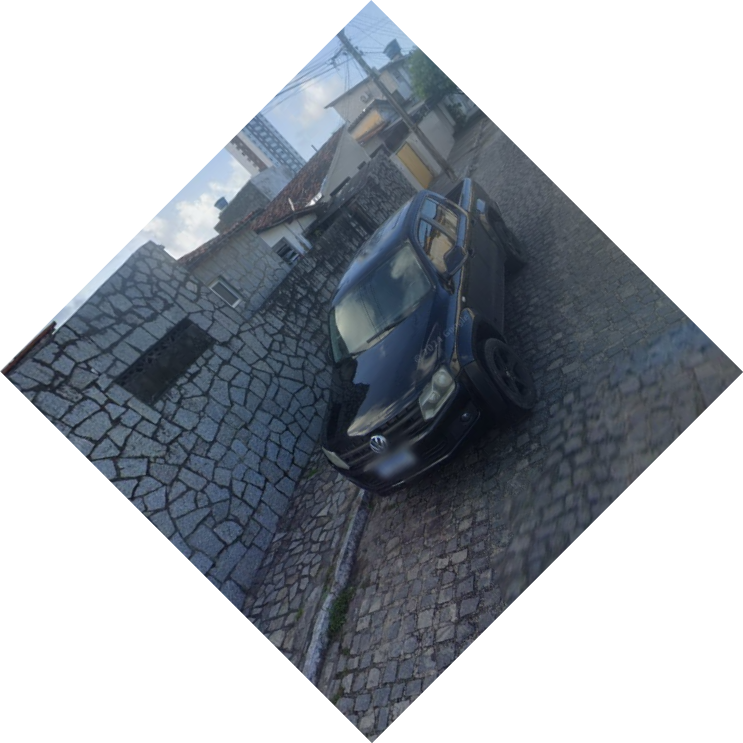car: (320, 172, 551, 500)
